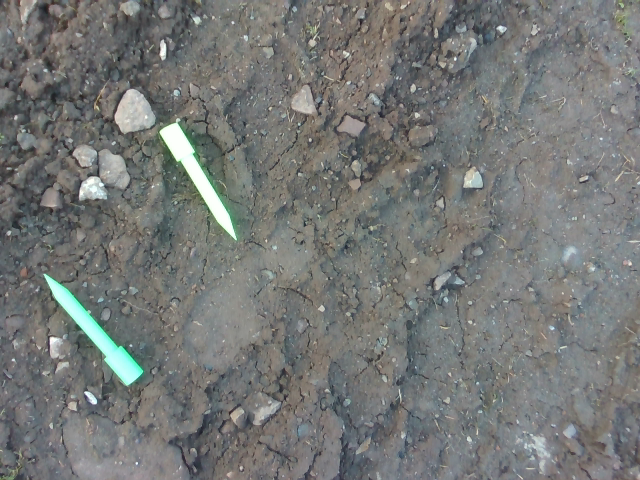Probe: (38, 266, 149, 391), (156, 116, 247, 250)
